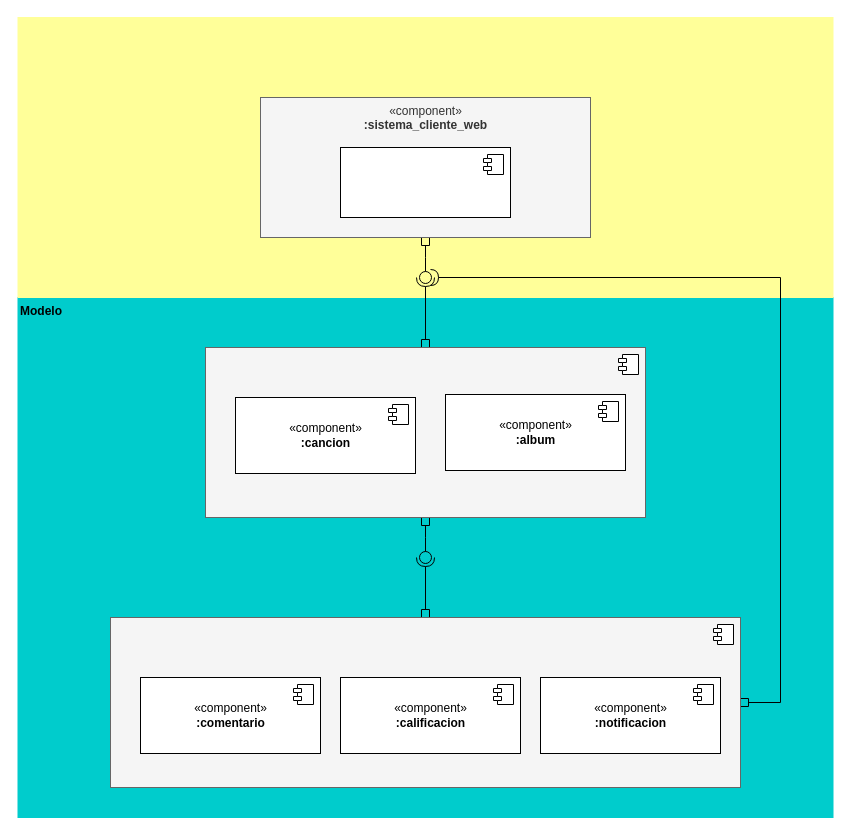
Some shapes in this 850 by 835 pixel diagram are drawn without their labels. The box of each missing label's shape, as (x1, y1, x2, y2) in pixels:
Vista: (17, 16, 833, 298)
«component» :cuenta_usuario: (204, 346, 646, 518)
«component» :interaccion: (110, 616, 740, 788)
«component» :usuario: (340, 146, 510, 218)
